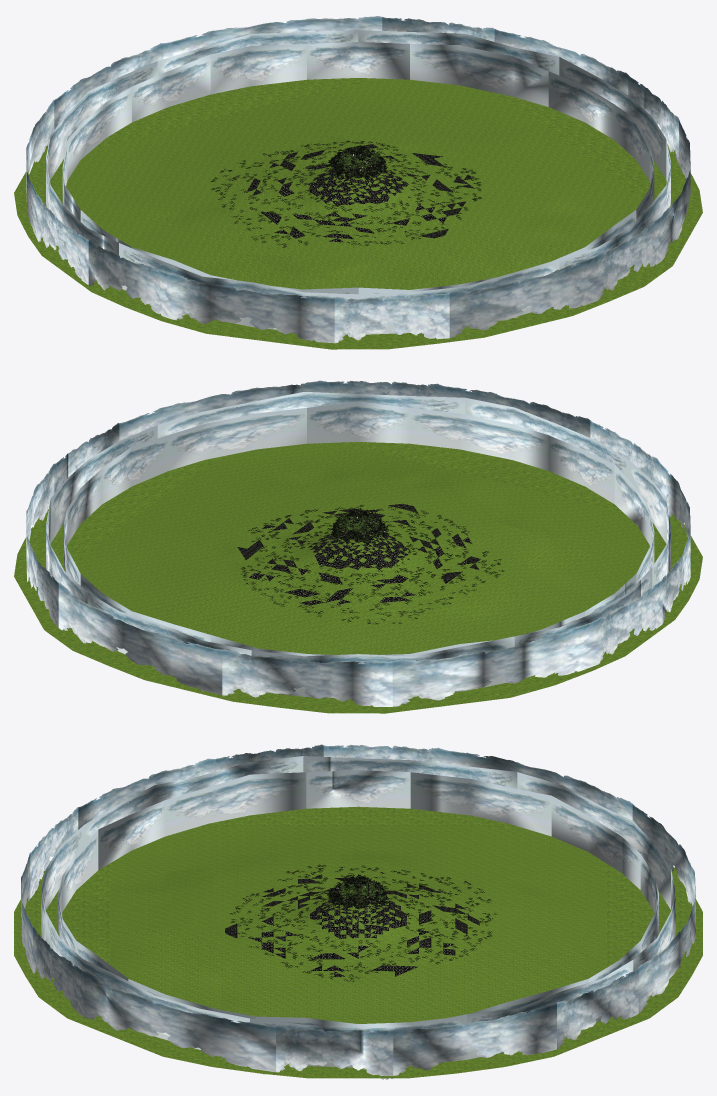
3 renders of one model, top to bottom at view 1: azimuth 30°, elevation 25°; view 2: azimuth 150°, elevation 25°; view 3: azimuth 270°, elevation 25°, orthographic.
Visible parts, largest first — view 1: Order_9_VisID_9; view 2: Order_9_VisID_9; view 3: Order_9_VisID_9.
Boxes of the visible parts, x1,y1,x2,y2 form: Order_9_VisID_9: [14, 16, 702, 349]; Order_9_VisID_9: [14, 380, 702, 713]; Order_9_VisID_9: [14, 744, 702, 1079].
Size of the model in its own units: 1659 by 169 by 1670.
11 materials, 11 textured.
